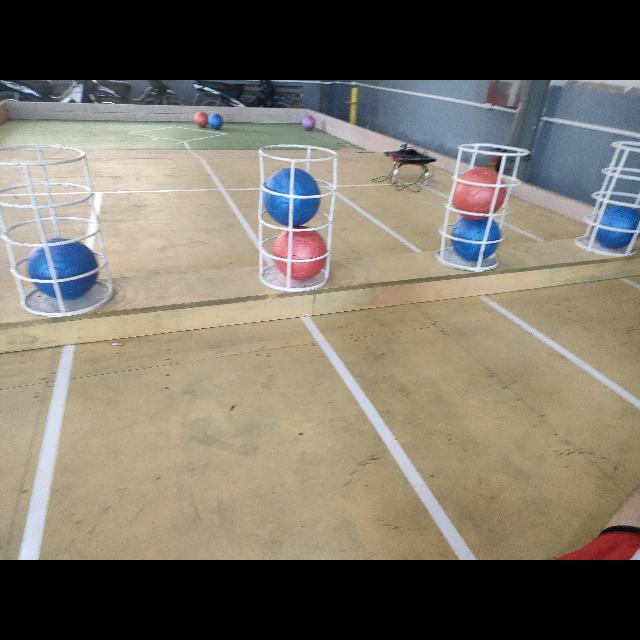B: (28, 238, 98, 298), (262, 167, 320, 226), (451, 216, 501, 260), (594, 207, 640, 250), (209, 114, 223, 130)
R: (452, 167, 506, 220), (274, 228, 326, 280), (195, 112, 208, 128)
